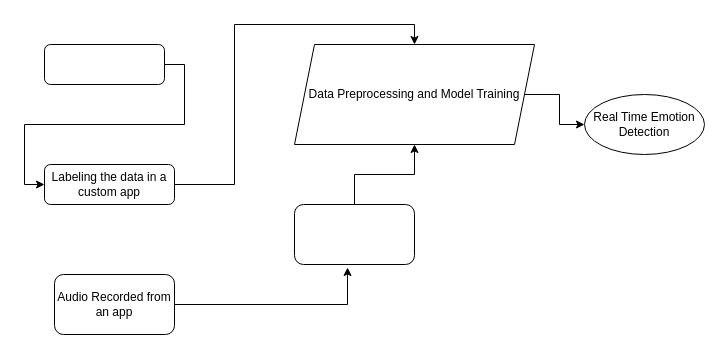
This 722x352 diagram has some shape labels left out. Here are the shapes that lost their labels. From the top down, the box of each, then its label:
(44, 44, 164, 84): Audio from wearable microphone
(294, 204, 414, 264): Sent to a cloud based Server
